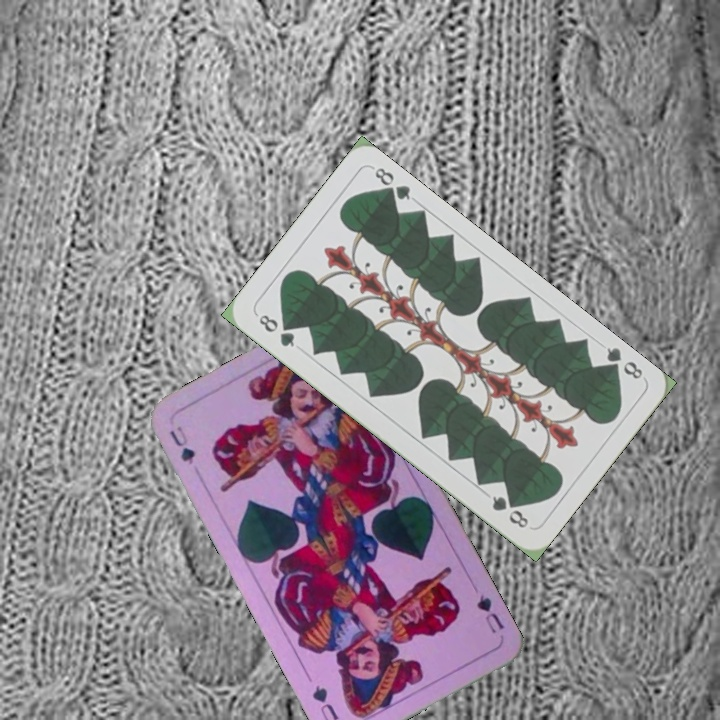G8: (599, 343, 646, 382), (254, 310, 298, 350)
GU: (472, 590, 507, 636), (165, 422, 198, 467)
